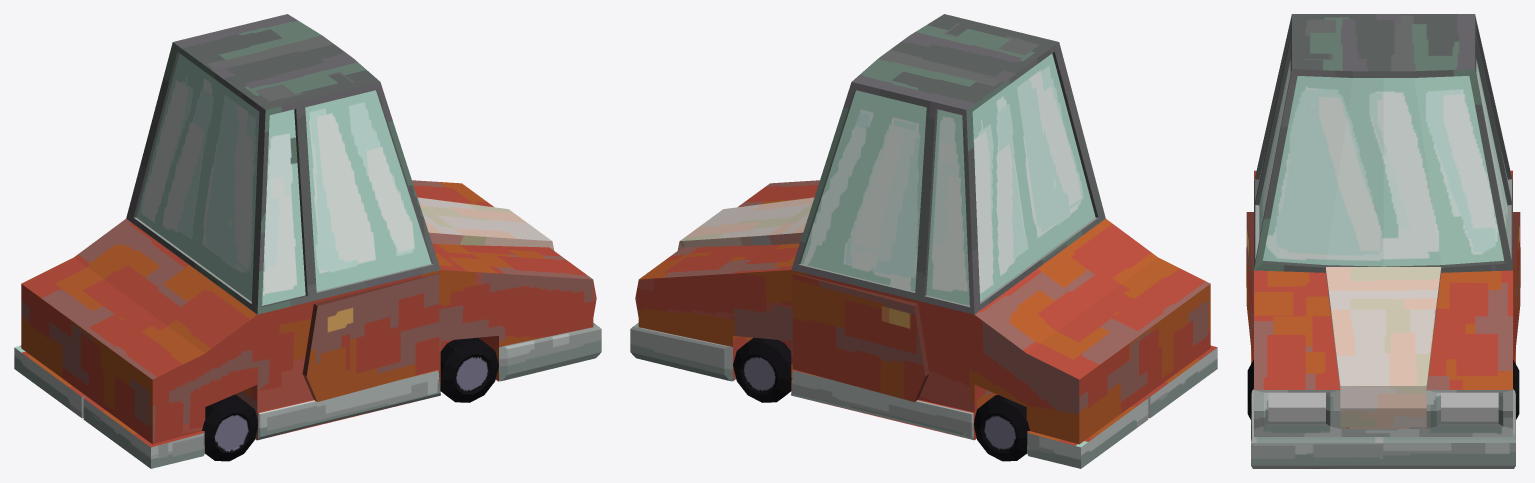
Rendered from vatur.fbx.
3 views of the same model, side by side, from view 1: azimuth 30°, elevation 25°; view 2: azimuth 150°, elevation 25°; view 3: azimuth 270°, elevation 25° (orthographic).
Parts seen in each view (by area): view 1: Cube; view 2: Cube; view 3: Cube.
Part boxes in pixels (bbox=[...]): Cube: bbox=[14, 14, 601, 468]; Cube: bbox=[630, 14, 1217, 468]; Cube: bbox=[1246, 14, 1520, 468].
Size of the model in its own units: 370 by 253 by 197.
2 materials, 1 textured.
